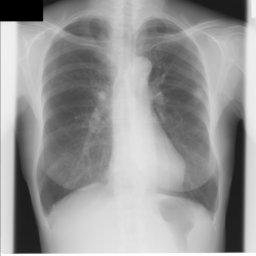left lobe: (138, 19, 218, 212)
right lobe: (38, 18, 113, 212)
